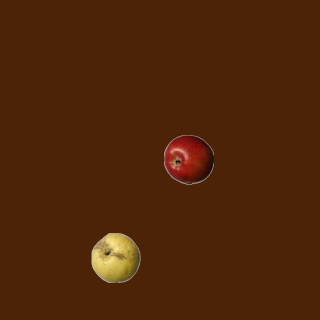Apple Braeburn: (163, 134, 213, 184)
Apple Golden 1: (90, 232, 140, 282)
